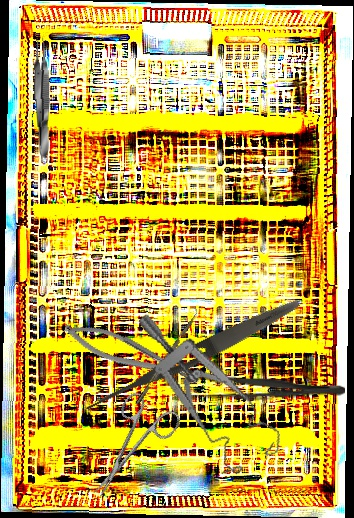Chopper: (130, 305, 202, 406)
Dressing Forceps: (82, 293, 303, 420), (183, 373, 346, 404)
Iris Scissors: (71, 385, 184, 511)
Needle Holder: (59, 313, 199, 394)
Speculum: (136, 287, 288, 489)
Tissue Forceps: (31, 37, 53, 160)
